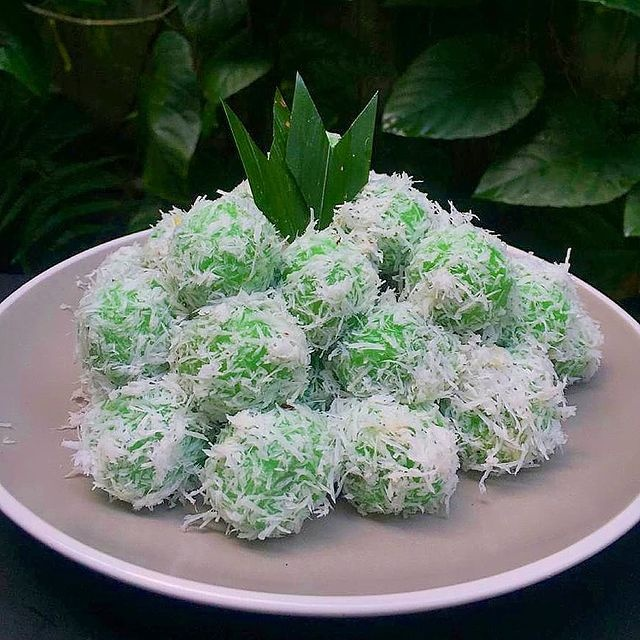klepon: (203, 405, 346, 552), (171, 289, 312, 409), (398, 207, 532, 313), (155, 204, 285, 310)
